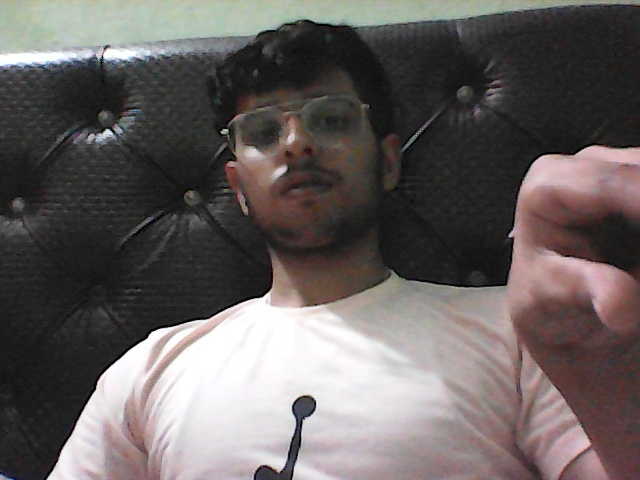no: (487, 120, 640, 405)
